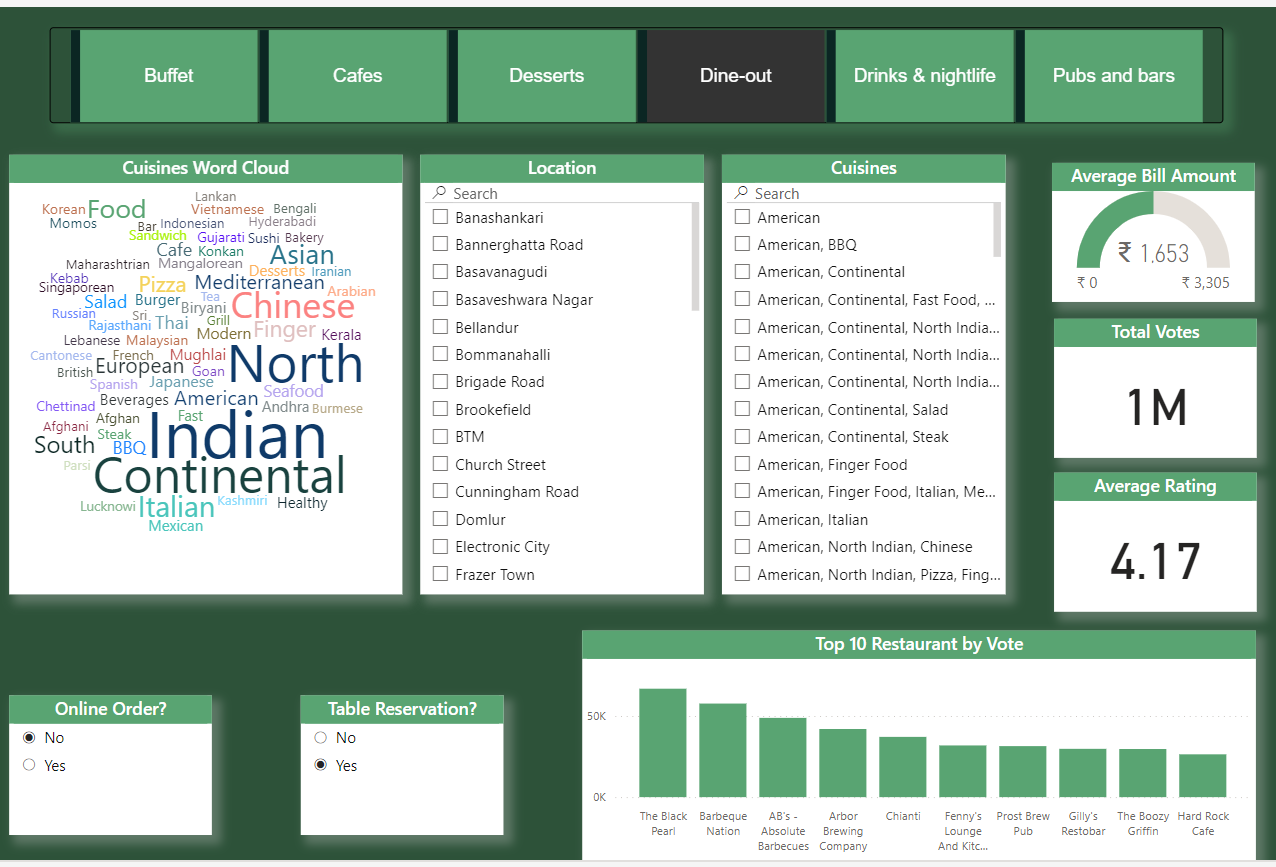

The page's visual inventory and layout, read from the dashboard file:
{"tool":"powerbi","page":{"name":"Report","canvas":[1350,900],"ordinal":0},"visuals":[{"type":"gauge","title":"Average Bill Amount","fields":{"Y":["Avg(zomato.approx_cost(for two people))"]},"box":[1113.3,163.7,213.9,146.7],"z":2000},{"type":"card","title":"Total Votes","fields":{"Values":["Sum(zomato.votes)"]},"box":[1113.9,328.7,213.9,146.7],"z":3000},{"type":"card","title":"Average Rating","fields":{"Values":["Avg(zomato.rate)"]},"box":[1114.6,491.2,213.9,146.7],"z":4000},{"type":"columnChart","title":"Top 10 Restaurant by Vote","fields":{"Category":["zomato.name"],"Y":["Sum(zomato.votes)"]},"box":[617.2,657.3,710.8,242.7],"z":5000},{"type":"slicer","title":"Table Reservation?","fields":{"Values":["zomato.book_table"]},"box":[321,726.1,214,147],"z":6000},{"type":"slicer","title":"Online Order?","fields":{"Values":["zomato.online_order"]},"box":[13.4,726.1,214,147.1],"z":7000},{"type":"slicer","title":"Cuisines","fields":{"Values":["zomato.cuisines"]},"box":[765.3,156.1,299.3,463.9],"z":8000},{"type":"slicer","title":"Location","fields":{"Values":["zomato.location"]},"box":[446.8,156.1,299.3,463.9],"z":9000},{"type":"WordCloud1447959067750","title":"Cuisines Word Cloud","fields":{"Category":["zomato.cuisines"]},"box":[12.8,156.1,414.7,463.9],"z":10000},{"type":"slicer","title":"Restaurant Type","fields":{"Values":["zomato.listed_in(type)"]},"box":[55.9,21,1238.2,101.3],"z":10500}]}

Visuals, with their boxes in screenshot pixels (x1, y1, x2, y2), scaled from the page's 1350x900 canvas onto the 1276x867 screenshot:
"Average Bill Amount" gauge: [1052,158,1254,299]
"Total Votes" card: [1053,317,1255,458]
"Average Rating" card: [1054,473,1256,615]
"Top 10 Restaurant by Vote" columnChart: [583,633,1255,866]
"Table Reservation?" slicer: [303,699,506,841]
"Online Order?" slicer: [13,699,215,841]
"Cuisines" slicer: [723,150,1006,597]
"Location" slicer: [422,150,705,597]
"Cuisines Word Cloud" WordCloud1447959067750: [12,150,404,597]
"Restaurant Type" slicer: [53,20,1223,118]
